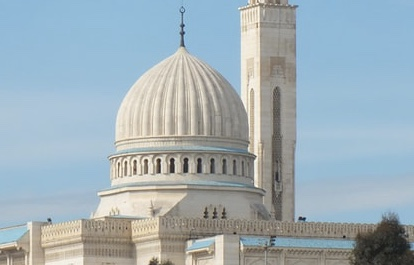Mosque: (47, 2, 317, 248)
